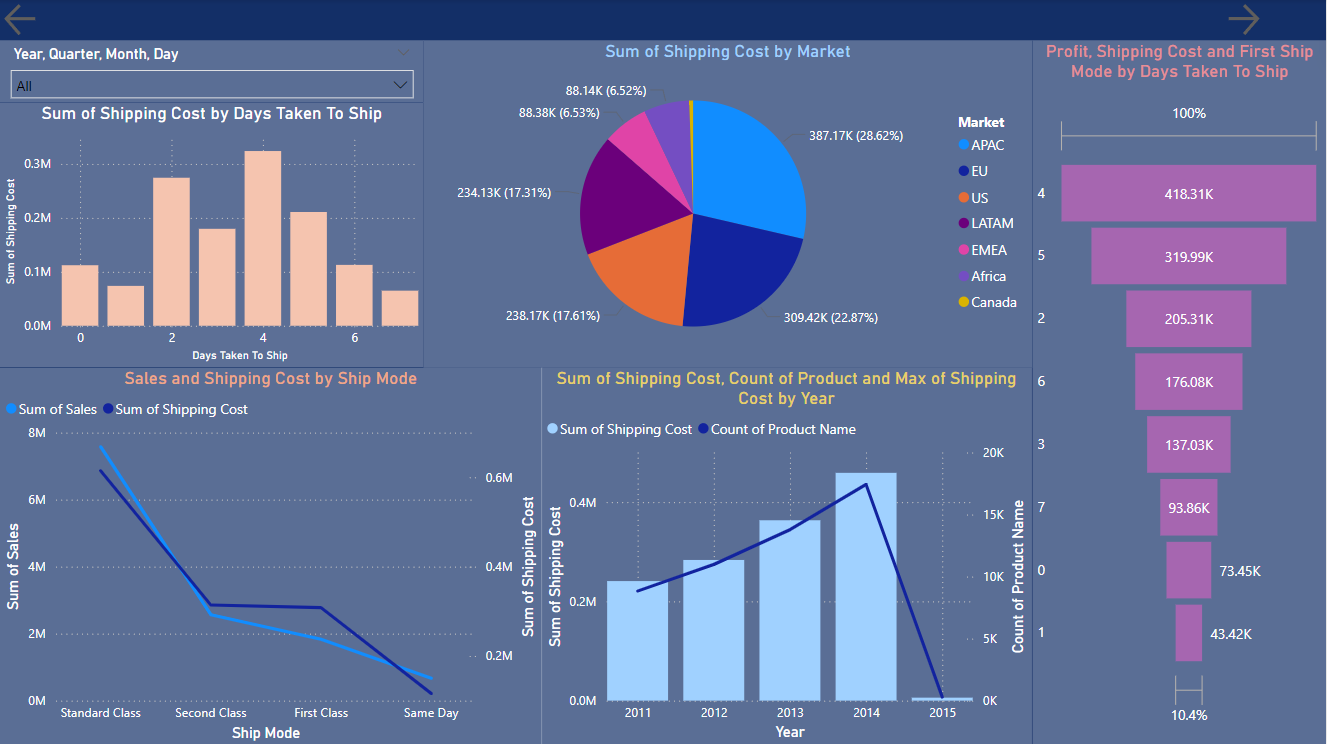

Layout of this report page (visuals, bound fields, positions):
{"tool":"powerbi","page":{"name":"Shipping","canvas":[1280,720],"ordinal":2},"visuals":[{"type":"clusteredColumnChart","fields":{"Y":["Sum(Orders.Shipping Cost)"],"Category":["Orders.Days Taken To Ship"]},"box":[0,100.2,408.9,255.2],"z":0},{"type":"lineStackedColumnComboChart","title":"Sum of Shipping Cost, Count of Product and Max of Shipping Cost by Year","fields":{"Y":["Sum(Orders.Shipping Cost)"],"Y2":["CountNonNull(Orders.Product Name)"],"Category":["Orders.Ship Date.Variation.Date Hierarchy.Year","Orders.Ship Date.Variation.Date Hierarchy.Quarter","Orders.Ship Date.Variation.Date Hierarchy.Month","Orders.Ship Date.Variation.Date Hierarchy.Day"]},"box":[522.8,355.4,473.4,365],"z":1000},{"type":"slicer","fields":{"Values":["Orders.Ship Date.Variation.Date Hierarchy.Year","Orders.Ship Date.Variation.Date Hierarchy.Quarter","Orders.Ship Date.Variation.Date Hierarchy.Month","Orders.Ship Date.Variation.Date Hierarchy.Day"]},"box":[0,39.8,408.9,60.4],"z":2000},{"type":"pieChart","fields":{"Category":["Orders.Market"],"Y":["Sum(Orders.Shipping Cost)"]},"box":[408.9,39.8,587.3,315.6],"z":3000},{"type":"lineChart","title":" Sales and Shipping Cost by Ship Mode","fields":{"Category":["Orders.Ship Mode"],"Y":["Sum(Orders.Sales)"],"Y2":["Sum(Orders.Shipping Cost)"]},"box":[0,355.4,522.8,365],"z":4000},{"type":"funnel","title":"Profit, Shipping Cost and First Ship Mode by Days Taken To Ship","fields":{"Y":["Sum(Orders.Profit)"],"Category":["Orders.Days Taken To Ship"]},"box":[996.2,39.8,284,680.6],"z":5000},{"type":"actionButton","box":[0,0,100,40],"z":6000},{"type":"actionButton","box":[1180.1,0,100.2,39.8],"z":7000}]}

Visuals, with their boxes in screenshot pixels (x1, y1, x2, y2), scaled from the page's 1280x720 canvas onto the 1327x744 screenshot:
clusteredColumnChart - Sum(Orders.Shipping Cost) x Orders.Days Taken To Ship: rect(0, 104, 424, 367)
"Sum of Shipping Cost, Count of Product and Max of Shipping Cost by Year" lineStackedColumnComboChart: rect(542, 367, 1033, 743)
slicer - Orders.Ship Date.Variation.Date Hierarchy.Year x Orders.Ship Date.Variation.Date Hierarchy.Quarter: rect(0, 41, 424, 104)
pieChart - Orders.Market x Sum(Orders.Shipping Cost): rect(424, 41, 1033, 367)
" Sales and Shipping Cost by Ship Mode" lineChart: rect(0, 367, 542, 743)
"Profit, Shipping Cost and First Ship Mode by Days Taken To Ship" funnel: rect(1033, 41, 1326, 743)
actionButton: rect(0, 0, 104, 41)
actionButton: rect(1223, 0, 1326, 41)
